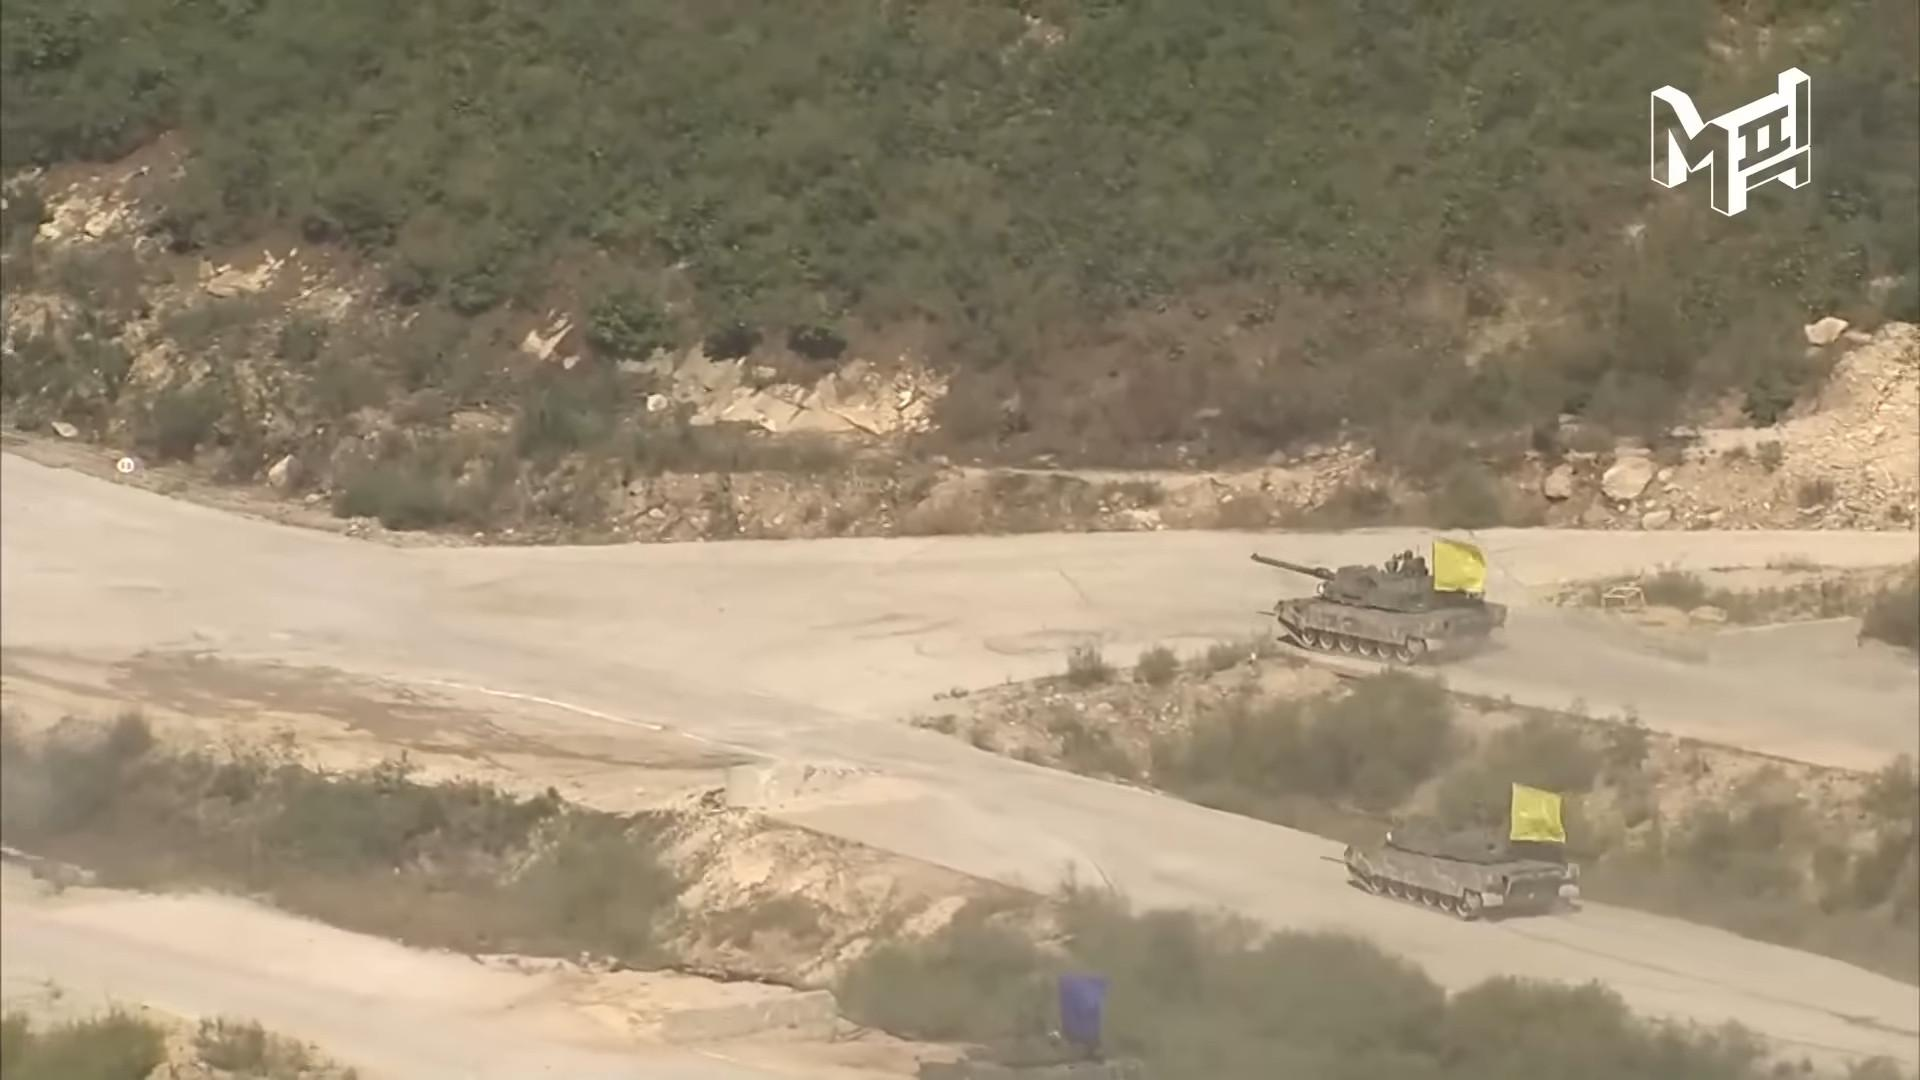tank: (1329, 799, 1581, 921), (1251, 553, 1506, 665)
